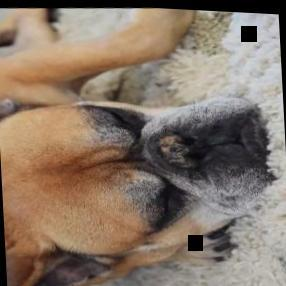keratosis: (156, 127, 206, 168)
